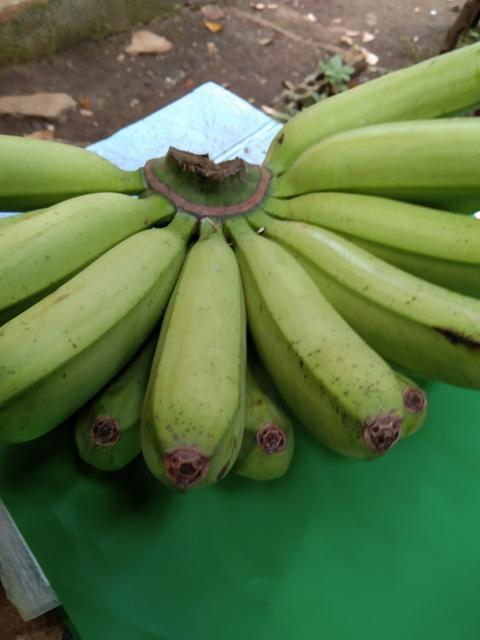freshunripe: (0, 207, 201, 453), (221, 229, 410, 469), (137, 231, 267, 500), (259, 33, 479, 165), (290, 109, 479, 225), (270, 187, 479, 288), (0, 113, 169, 205), (0, 180, 136, 293)
unripe: (252, 201, 479, 391)
